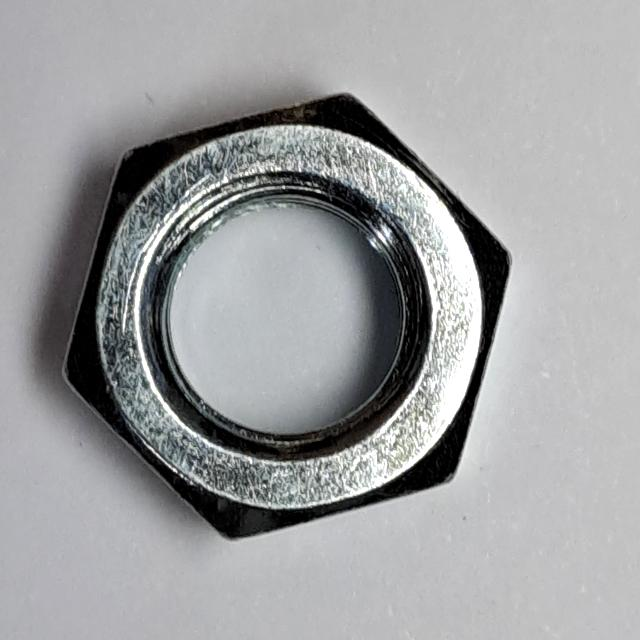Excellent: (55, 78, 524, 553)
